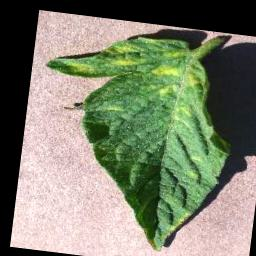Leaf_Mold: (61, 59, 101, 78), (103, 40, 145, 57), (110, 53, 147, 71), (152, 63, 181, 79)
